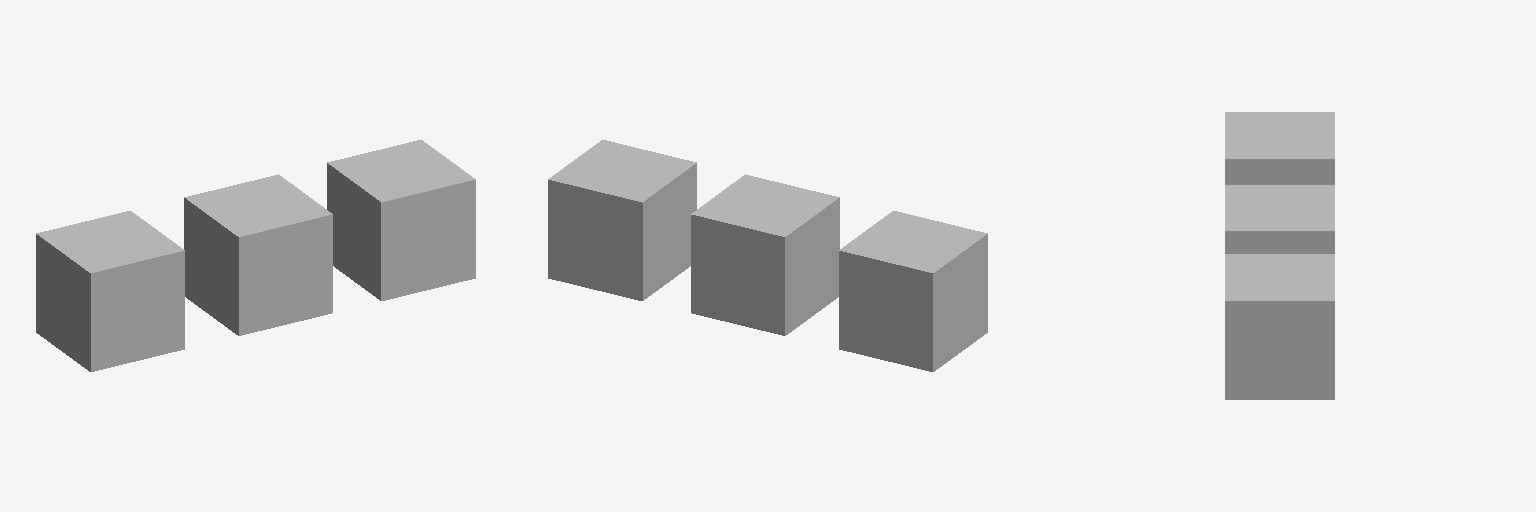
File: materials.obj
3 renders of one model, left to right at view 1: azimuth 30°, elevation 25°; view 2: azimuth 150°, elevation 25°; view 3: azimuth 270°, elevation 25°, orthographic.
Parts seen in each view (by area): view 1: Cube.002, Cube, Cube.001; view 2: Cube.002, Cube, Cube.001; view 3: Cube.001, Cube.002, Cube.
Part boxes in pixels (left/top/right/bottom): Cube.002: left=36, top=211, right=184, bottom=371; Cube: left=184, top=174, right=332, bottom=335; Cube.001: left=327, top=140, right=475, bottom=300; Cube.002: left=839, top=211, right=987, bottom=371; Cube: left=691, top=174, right=839, bottom=335; Cube.001: left=548, top=140, right=696, bottom=300; Cube.001: left=1225, top=254, right=1334, bottom=399; Cube.002: left=1225, top=112, right=1334, bottom=184; Cube: left=1225, top=185, right=1334, bottom=253.
Bounding box in the file's own units: 8.15 × 2 × 2.